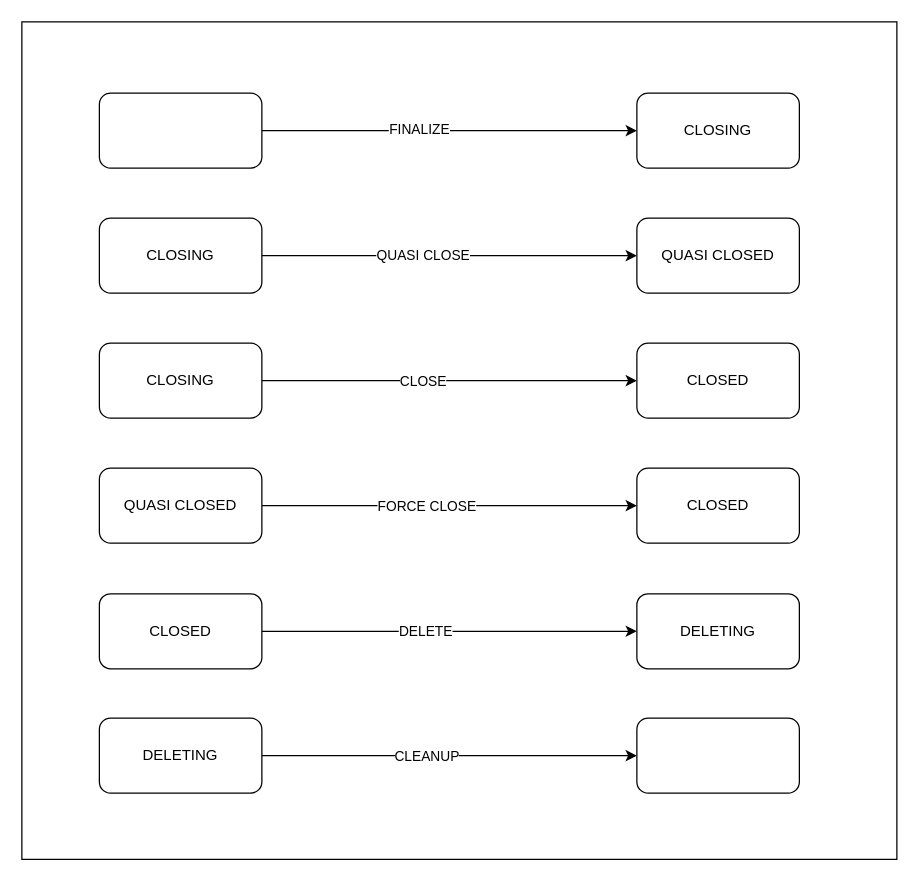
Image size: 919x881. Some labels were removed from this diagram. Each missing label, with the centre of its shape:
DELETED: point 717,755
OPEN: point 180,130
